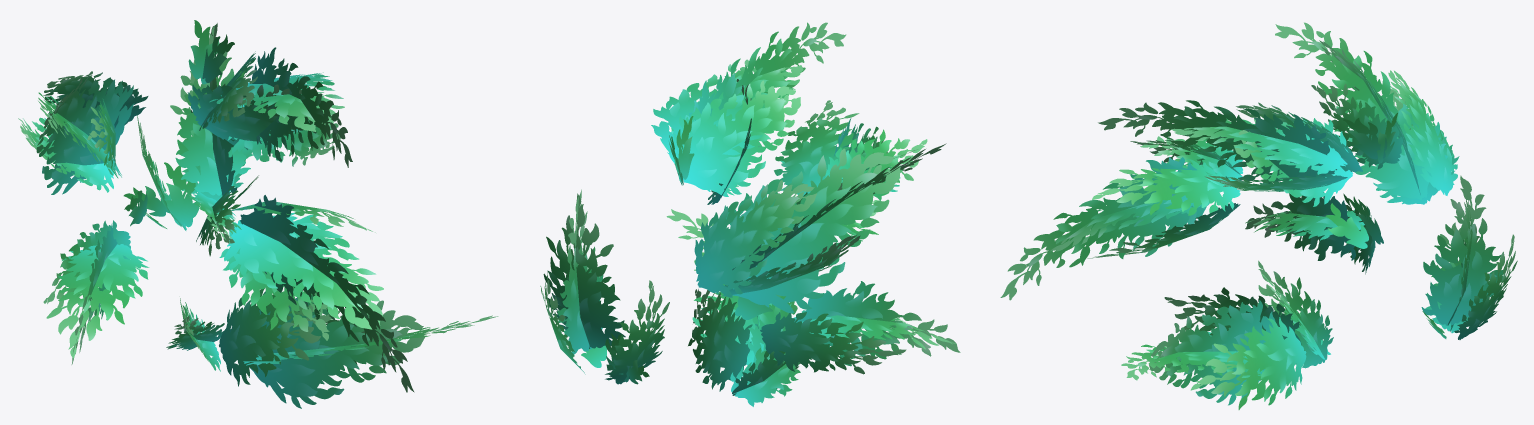
Rendered from Fbx_TreeLandmark_Foliage.fbx.
3 views of the same model, side by side, from view 1: azimuth 30°, elevation 25°; view 2: azimuth 150°, elevation 25°; view 3: azimuth 270°, elevation 25° (orthographic). The views are drawn at different scales.
Visible parts, largest first — view 1: Plane102, Plane077, Plane068, Plane078, Plane096, Plane103, Plane069, Plane085, Plane076, Plane082, Plane074, Plane073 (+21 smaller); view 2: Plane078, Plane075, Plane079, Plane085, Plane097, Plane104, Plane072, Plane069, Plane081, Plane074, Plane087, Plane071 (+13 smaller); view 3: Plane070, Plane068, Plane069, Plane071, Plane104, Plane102, Plane081, Plane079, Plane074, Plane072, Plane105, Plane093 (+21 smaller).
Boxes of the visible parts, left/top/right/bottom form: Plane102: left=249, top=291, right=424, bottom=408; Plane077: left=224, top=212, right=383, bottom=329; Plane068: left=240, top=195, right=414, bottom=392; Plane078: left=36, top=75, right=134, bottom=194; Plane096: left=46, top=244, right=149, bottom=358; Plane103: left=219, top=288, right=340, bottom=386; Plane069: left=245, top=47, right=352, bottom=167; Plane085: left=175, top=24, right=253, bottom=195; Plane076: left=187, top=84, right=308, bottom=149; Plane082: left=219, top=215, right=329, bottom=340; Plane074: left=209, top=72, right=344, bottom=131; Plane073: left=227, top=89, right=340, bottom=166; Plane078: left=724, top=148, right=900, bottom=313; Plane075: left=673, top=80, right=800, bottom=196; Plane079: left=694, top=180, right=816, bottom=297; Plane085: left=543, top=193, right=625, bottom=348; Plane097: left=760, top=312, right=906, bottom=374; Plane104: left=688, top=289, right=752, bottom=391; Plane072: left=794, top=281, right=960, bottom=366; Plane069: left=689, top=22, right=846, bottom=147; Plane081: left=774, top=100, right=859, bottom=196; Plane074: left=651, top=59, right=803, bottom=155; Plane087: left=605, top=280, right=669, bottom=384; Plane071: left=557, top=189, right=603, bottom=354; Plane070: left=1275, top=22, right=1447, bottom=199; Plane068: left=1000, top=157, right=1206, bottom=300; Plane069: left=1098, top=100, right=1336, bottom=183; Plane071: left=1421, top=175, right=1503, bottom=325; Plane104: left=1190, top=317, right=1306, bottom=409; Plane102: left=1149, top=300, right=1275, bottom=405; Plane081: left=1092, top=159, right=1240, bottom=215; Plane079: left=1388, top=70, right=1457, bottom=195; Plane074: left=1171, top=118, right=1347, bottom=174; Plane072: left=1245, top=192, right=1355, bottom=260; Plane105: left=1257, top=260, right=1333, bottom=368; Plane093: left=1311, top=83, right=1402, bottom=169.
Bounding box in the file's own units: 1130 × 999 × 1500.
